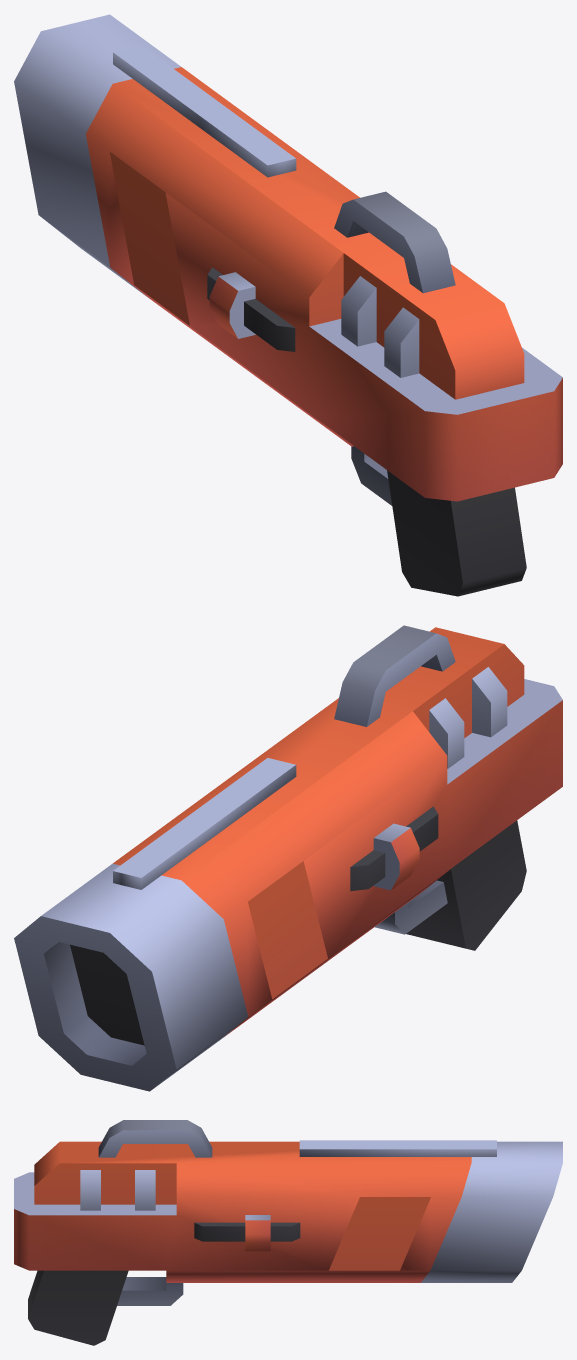
The model's file is blaster-h.glb.
3 renders of one model, top to bottom at view 1: azimuth 30°, elevation 25°; view 2: azimuth 150°, elevation 25°; view 3: azimuth 270°, elevation 25°, orthographic. The views are drawn at different scales.
Parts seen in each view (by area): view 1: blaster-h; view 2: blaster-h; view 3: blaster-h.
Part boxes in pixels (x1,y1,x2,y2): blaster-h: (14, 14, 562, 596); blaster-h: (14, 625, 562, 1091); blaster-h: (14, 1120, 562, 1345).
Bounding box in the file's own units: 0.165 × 0.2745 × 0.648.
1 material, 1 textured.
